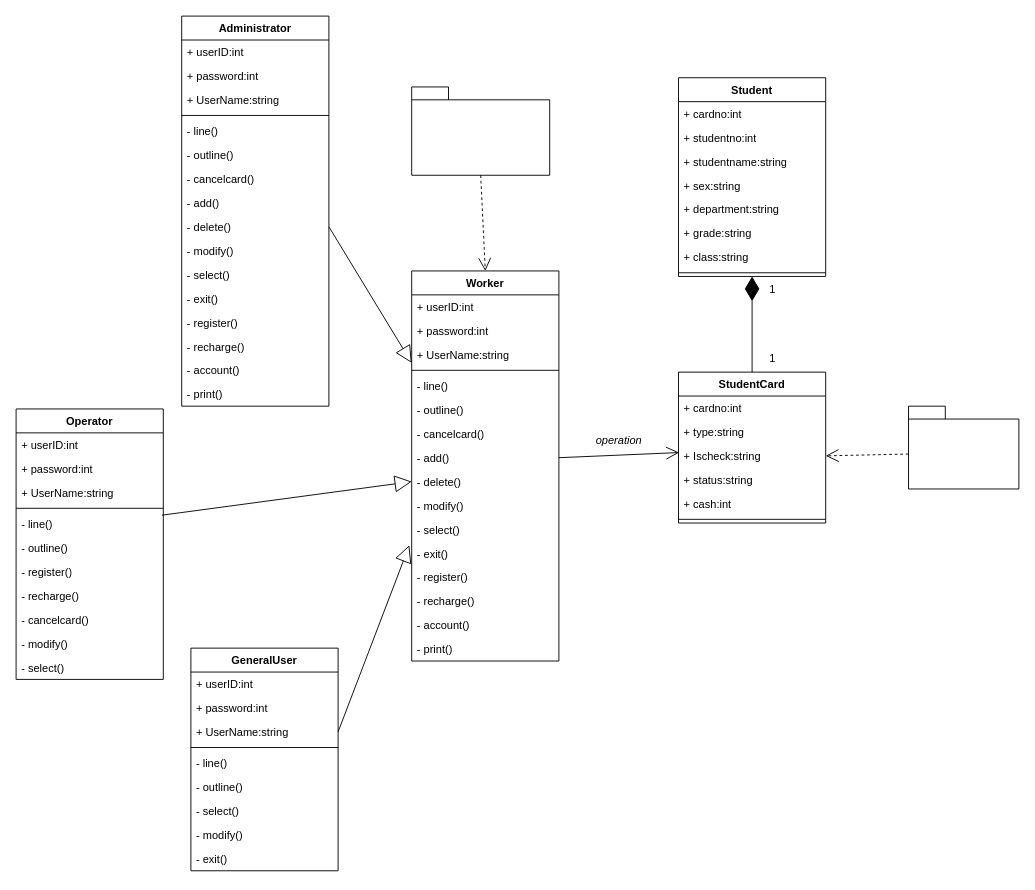
This 1035x890 diagram has some shape labels left out. Each missing label, with the centre of its shape:
"Studentrecords" belongs at pixel 963 447.
"WorkerRecords" belongs at pixel 480 130.
